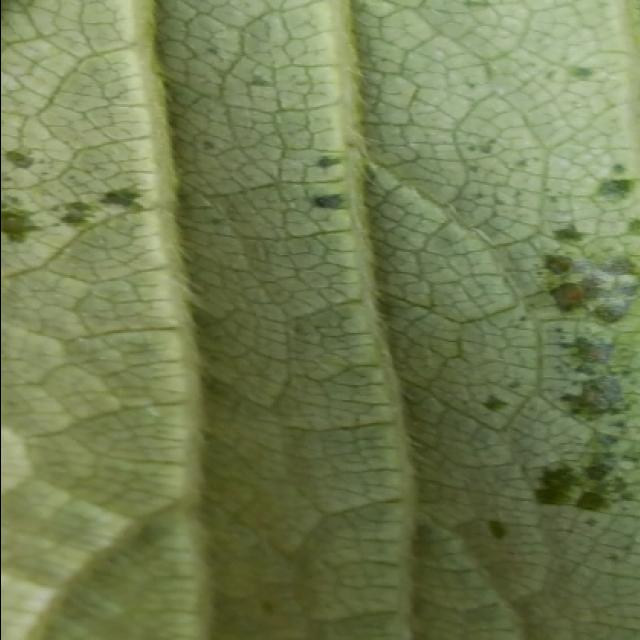Angular Leafspot: (2, 40, 640, 577)
